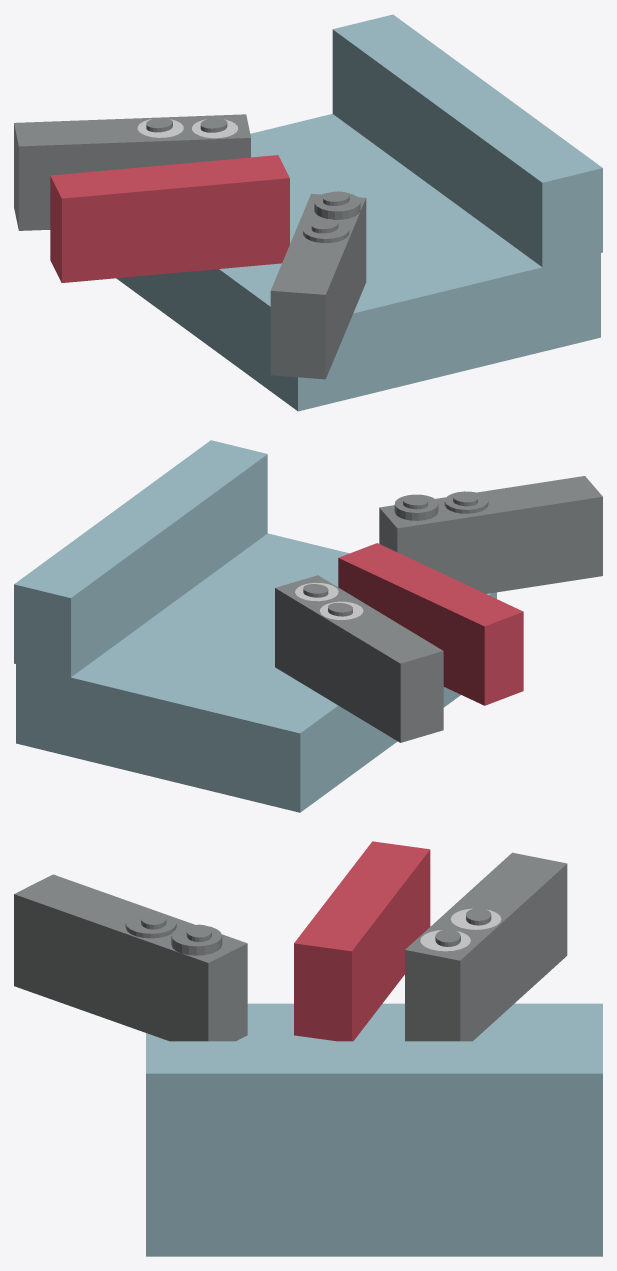
Rendered from StaticsPrototype.glb.
3 views of the same model, one above another, from view 1: azimuth 30°, elevation 25°; view 2: azimuth 150°, elevation 25°; view 3: azimuth 270°, elevation 25° (orthographic). The views are drawn at different scales.
Visible parts, largest first — view 1: Mesh_Mesh_head_geo.001_lambert2SG.001; view 2: Mesh_Mesh_head_geo.001_lambert2SG.001; view 3: Mesh_Mesh_head_geo.001_lambert2SG.001.
Boxes of the visible parts, left/top/right/bottom form: Mesh_Mesh_head_geo.001_lambert2SG.001: left=14, top=14, right=602, bottom=411; Mesh_Mesh_head_geo.001_lambert2SG.001: left=14, top=440, right=602, bottom=812; Mesh_Mesh_head_geo.001_lambert2SG.001: left=14, top=841, right=602, bottom=1256.
Bounding box in the file's own units: 108 × 43 × 116.
